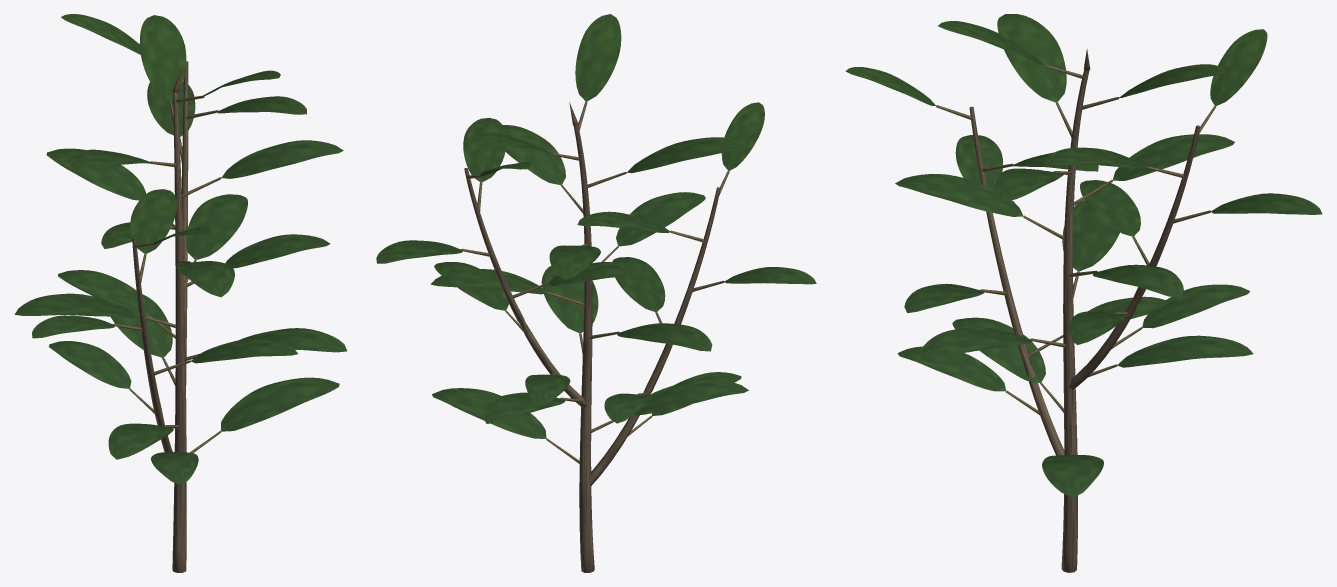
The model's file is n-ficus.glb.
3 views of the same model, side by side, from view 1: azimuth 30°, elevation 25°; view 2: azimuth 150°, elevation 25°; view 3: azimuth 270°, elevation 25° (orthographic). The views are drawn at different scales.
Visible parts, largest first — view 1: Foliage, Stems; view 2: Foliage, Stems; view 3: Foliage, Stems.
Boxes of the visible parts, bbox=[...] form: Foliage: bbox=[15, 14, 346, 484]; Stems: bbox=[113, 61, 221, 572]; Foliage: bbox=[376, 14, 816, 438]; Stems: bbox=[461, 101, 729, 572]; Foliage: bbox=[845, 14, 1322, 497]; Stems: bbox=[936, 49, 1215, 572].
Bounding box in the file's own units: 0.8792 × 1.25 × 0.9597.
Materials: 2 (2 with a texture image).
